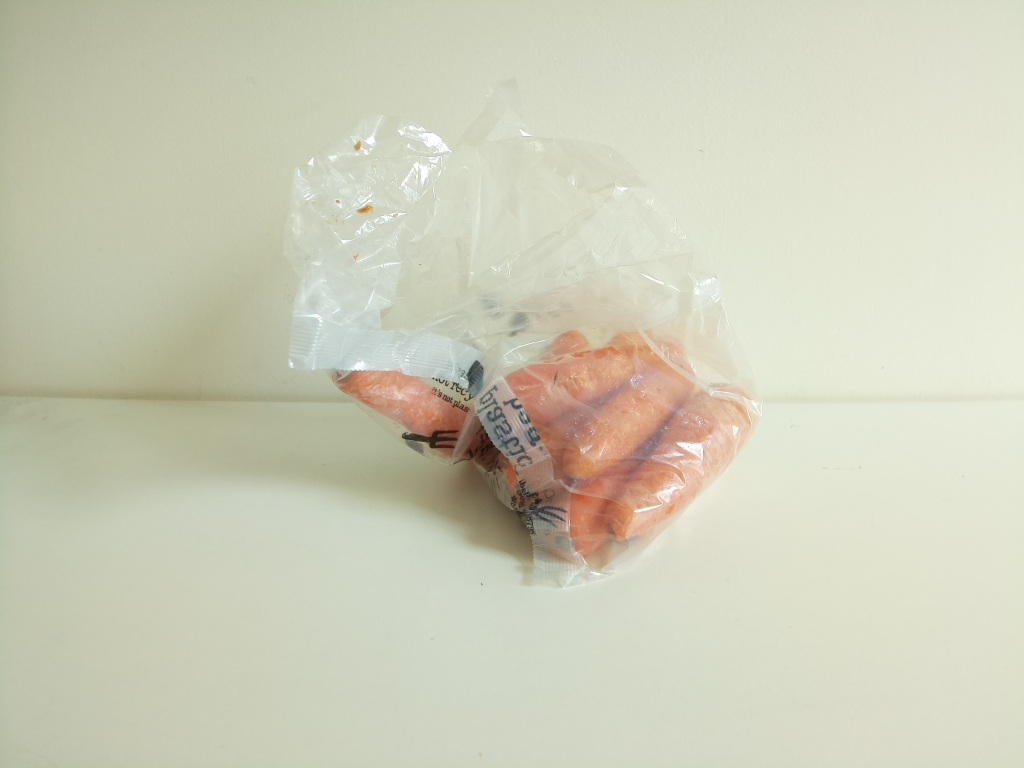carrot: (331, 324, 761, 570)
